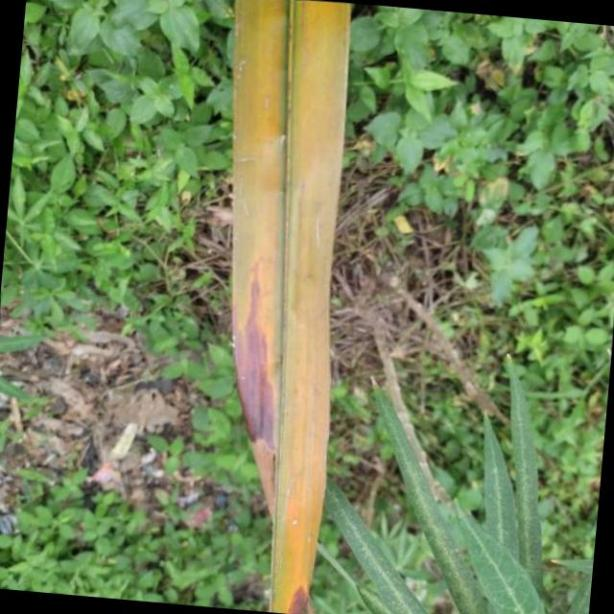Megnesium: (228, 1, 355, 614)
